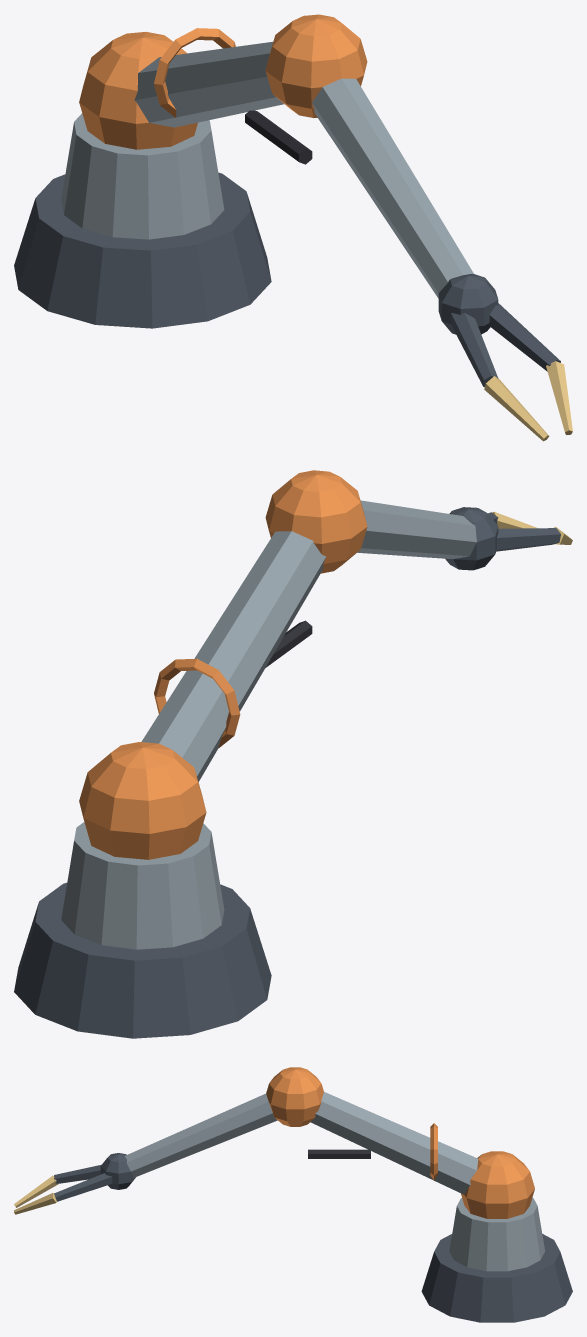
The model's file is sub_manipulator_arm.glb.
3 renders of one model, top to bottom at view 1: azimuth 30°, elevation 25°; view 2: azimuth 150°, elevation 25°; view 3: azimuth 270°, elevation 25°, orthographic. The views are drawn at different scales.
Visible parts, largest first — view 1: sub_manipulator_arm_hull, sub_manipulator_arm_dark, sub_manipulator_arm_accent, sub_manipulator_arm_brass, sub_manipulator_arm_rubber; view 2: sub_manipulator_arm_hull, sub_manipulator_arm_dark, sub_manipulator_arm_accent, sub_manipulator_arm_rubber; view 3: sub_manipulator_arm_hull, sub_manipulator_arm_dark, sub_manipulator_arm_accent, sub_manipulator_arm_brass, sub_manipulator_arm_rubber.
Boxes of the visible parts, x1,y1,x2,y2 form: sub_manipulator_arm_hull: [61, 41, 473, 298]; sub_manipulator_arm_dark: [14, 172, 560, 387]; sub_manipulator_arm_accent: [79, 14, 367, 149]; sub_manipulator_arm_brass: [484, 361, 572, 441]; sub_manipulator_arm_rubber: [245, 110, 312, 164]; sub_manipulator_arm_hull: [61, 500, 476, 949]; sub_manipulator_arm_dark: [14, 507, 560, 1038]; sub_manipulator_arm_accent: [79, 470, 367, 859]; sub_manipulator_arm_rubber: [265, 620, 312, 667]; sub_manipulator_arm_hull: [125, 1092, 545, 1271]; sub_manipulator_arm_dark: [54, 1153, 572, 1322]; sub_manipulator_arm_accent: [266, 1067, 534, 1218]; sub_manipulator_arm_brass: [14, 1175, 58, 1214]; sub_manipulator_arm_rubber: [308, 1149, 370, 1158].
Size of the model in its own units: 1.17 by 1.94 by 4.43.
